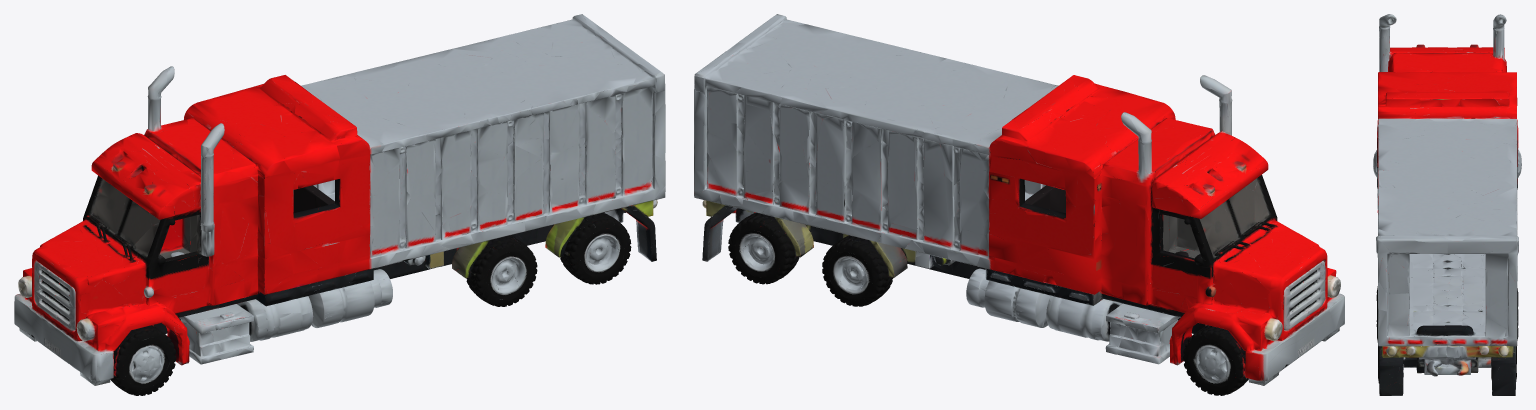
The model's file is truck.glb.
The picture shows the model from 3 angles, left to right: view 1: azimuth 30°, elevation 25°; view 2: azimuth 150°, elevation 25°; view 3: azimuth 270°, elevation 25°; orthographic projection. The views are drawn at different scales.
Visible parts, largest first — view 1: meshy_truck_full; view 2: meshy_truck_full; view 3: meshy_truck_full.
Boxes of the visible parts, x1,y1,x2,y2 form: meshy_truck_full: [14, 14, 665, 395]; meshy_truck_full: [694, 14, 1344, 395]; meshy_truck_full: [1373, 14, 1521, 395].
Size of the model in its own units: 8.58 by 3.6 by 2.24.
1 material, 1 textured.
